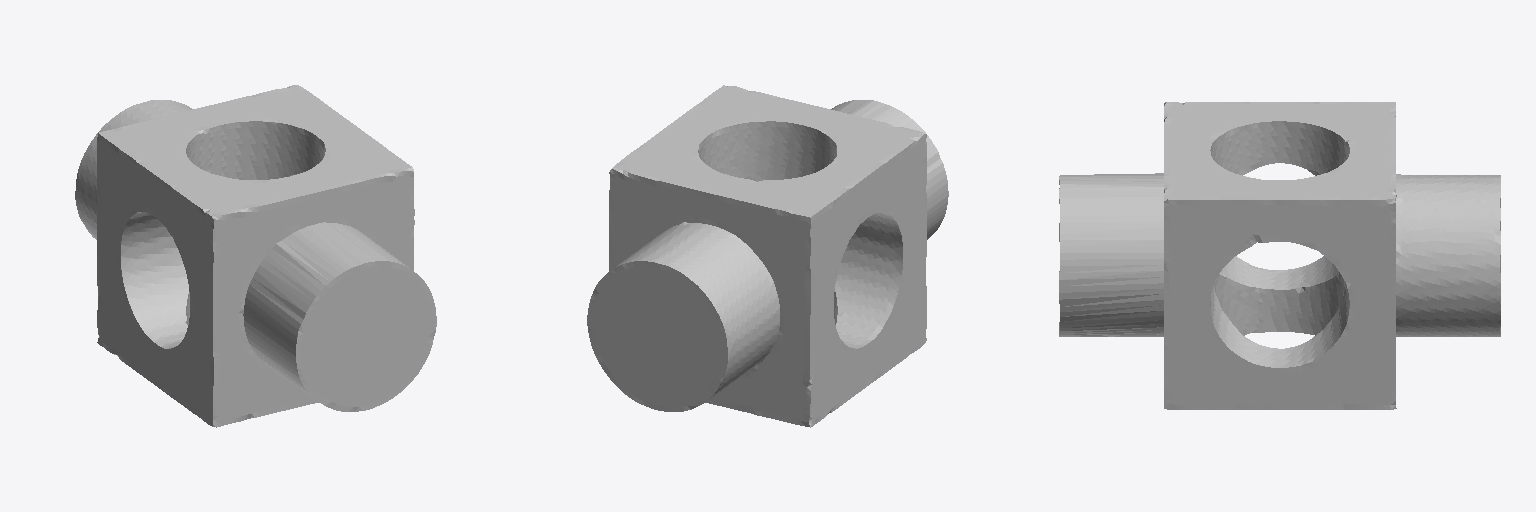
The model's file is block_bad_shaped.obj.
3 views of the same model, side by side, from view 1: azimuth 30°, elevation 25°; view 2: azimuth 150°, elevation 25°; view 3: azimuth 270°, elevation 25° (orthographic).
Visible parts, largest first — view 1: block; view 2: block; view 3: block.
Part boxes in pixels (x1,y1,x2,y2): block: (75,85,436,427); block: (587,85,948,427); block: (1059,102,1500,409).
Bounding box in the file's own units: 20.03 × 20.1 × 38.07.